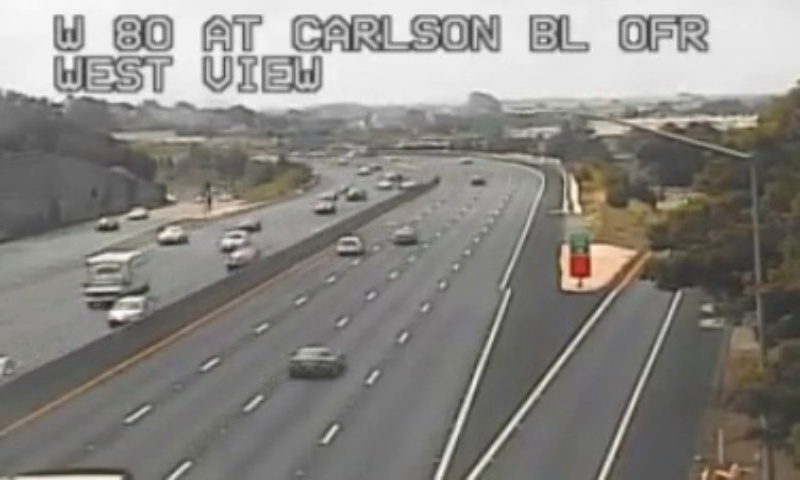car: (287, 346, 342, 375), (334, 236, 363, 254)
